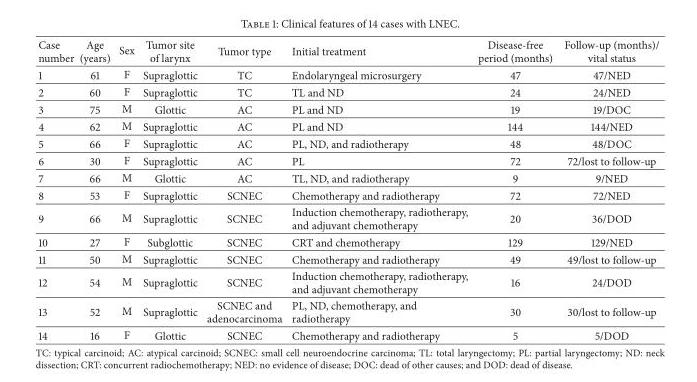table: (37, 36, 658, 342)
table column: (286, 36, 472, 342), (557, 36, 658, 342), (201, 36, 286, 342), (472, 36, 557, 342), (138, 36, 201, 342), (37, 36, 76, 342), (76, 36, 113, 342), (113, 36, 138, 342)
table column header: (37, 36, 658, 65)
table row: (37, 296, 658, 326), (37, 36, 658, 65), (37, 203, 658, 232), (37, 267, 658, 296), (37, 99, 658, 117), (37, 168, 658, 186), (37, 232, 658, 250), (37, 65, 658, 82), (37, 82, 658, 99), (37, 117, 658, 134), (37, 134, 658, 151), (37, 151, 658, 168), (37, 186, 658, 203), (37, 250, 658, 267), (37, 326, 658, 342)
